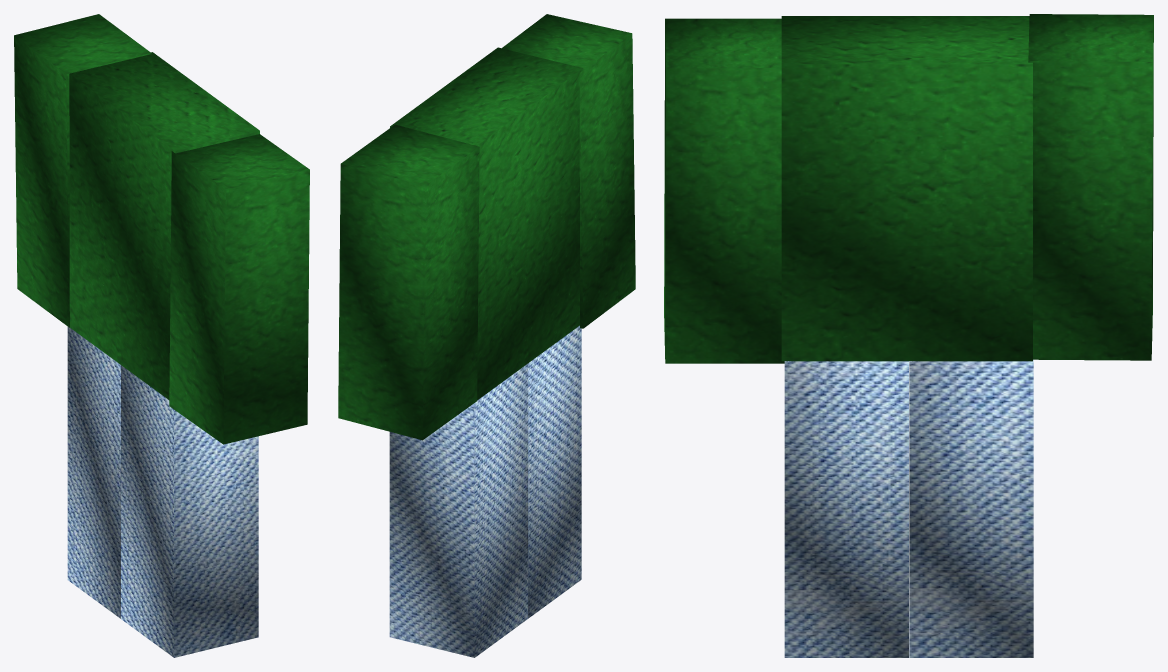
The model's file is usermodel.obj.
The picture shows the model from 3 angles, left to right: view 1: azimuth 30°, elevation 25°; view 2: azimuth 150°, elevation 25°; view 3: azimuth 270°, elevation 25°; orthographic projection. The views are drawn at different scales.
Visible parts, largest first — view 1: RArm_Steve_RArm, Body_Steve_Body, RLeg_Steve_RLeg, LArm_Steve_LArm, LLeg_Steve_LLeg; view 2: LArm_Steve_LArm, Body_Steve_Body, LLeg_Steve_LLeg, RArm_Steve_RArm, RLeg_Steve_RLeg; view 3: Body_Steve_Body, LArm_Steve_LArm, RArm_Steve_RArm, LLeg_Steve_LLeg, RLeg_Steve_RLeg.
Boxes of the visible parts, left/top/right/bottom form: RArm_Steve_RArm: left=169, top=134, right=309, bottom=444; Body_Steve_Body: left=69, top=52, right=259, bottom=399; RLeg_Steve_RLeg: left=121, top=365, right=258, bottom=657; LArm_Steve_LArm: left=14, top=14, right=151, bottom=327; LLeg_Steve_LLeg: left=67, top=327, right=120, bottom=618; LArm_Steve_LArm: left=338, top=124, right=479, bottom=440; Body_Steve_Body: left=390, top=47, right=582, bottom=400; LLeg_Steve_LLeg: left=389, top=363, right=527, bottom=657; RArm_Steve_RArm: left=502, top=14, right=635, bottom=328; RLeg_Steve_RLeg: left=528, top=325, right=581, bottom=618; Body_Steve_Body: left=781, top=16, right=1032, bottom=361; LArm_Steve_LArm: left=1028, top=14, right=1153, bottom=360; RArm_Steve_RArm: left=664, top=18, right=784, bottom=363; LLeg_Steve_LLeg: left=909, top=359, right=1033, bottom=657; RLeg_Steve_RLeg: left=784, top=361, right=908, bottom=657.
Size of the model in its own units: 1.09 by 6 by 4.48.
